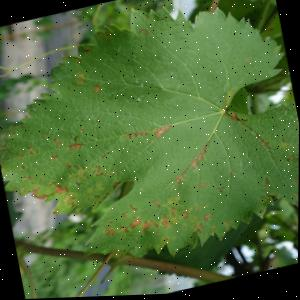Folha: (0, 0, 300, 292)
Fungo: (98, 188, 218, 258), (33, 148, 123, 224), (102, 203, 195, 243), (167, 144, 215, 185), (123, 125, 174, 147), (49, 179, 75, 203), (254, 133, 273, 155), (68, 70, 88, 89), (151, 125, 173, 142), (194, 144, 211, 163), (227, 111, 248, 126), (33, 188, 51, 204), (124, 130, 149, 140), (90, 164, 106, 178), (127, 217, 142, 229), (102, 224, 116, 236), (91, 82, 103, 95), (67, 142, 84, 151), (134, 94, 149, 104), (178, 211, 192, 221), (137, 27, 150, 37), (47, 153, 60, 162), (202, 213, 213, 223), (173, 174, 184, 184), (52, 136, 62, 147), (189, 159, 199, 169), (110, 179, 121, 188), (100, 152, 111, 159), (197, 182, 207, 189), (216, 187, 225, 194), (173, 179, 181, 184), (144, 17, 151, 22), (295, 161, 299, 169)
